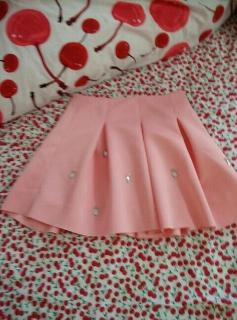skirt: (0, 91, 237, 238)
